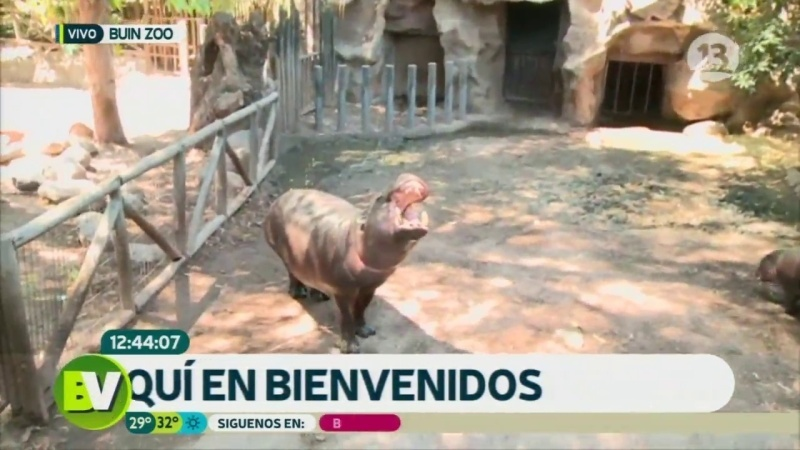hipopotamo: (252, 171, 449, 352)
